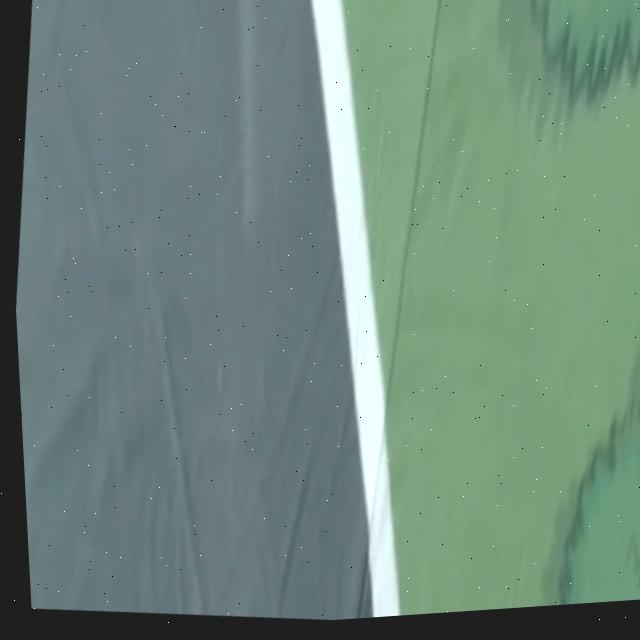right: (310, 0, 399, 617)
